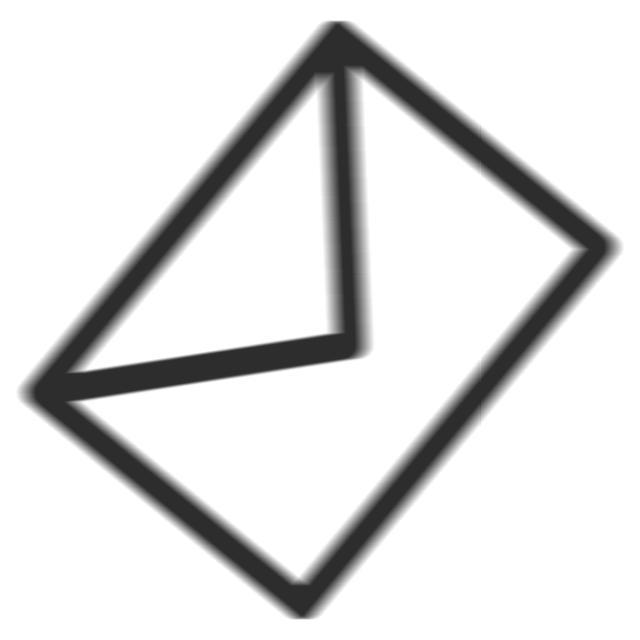letter: (5, 13, 634, 631)
